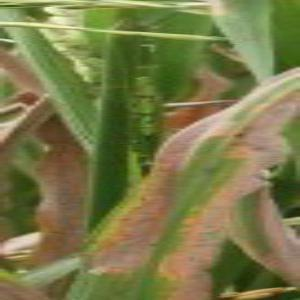2 BacterialBlight: (107, 120, 235, 300)
